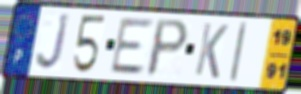5: (71, 13, 108, 75)
E: (108, 17, 156, 76)
I: (227, 20, 249, 84)
J: (34, 12, 72, 73)
K: (192, 21, 231, 81)
P: (144, 18, 192, 79)
